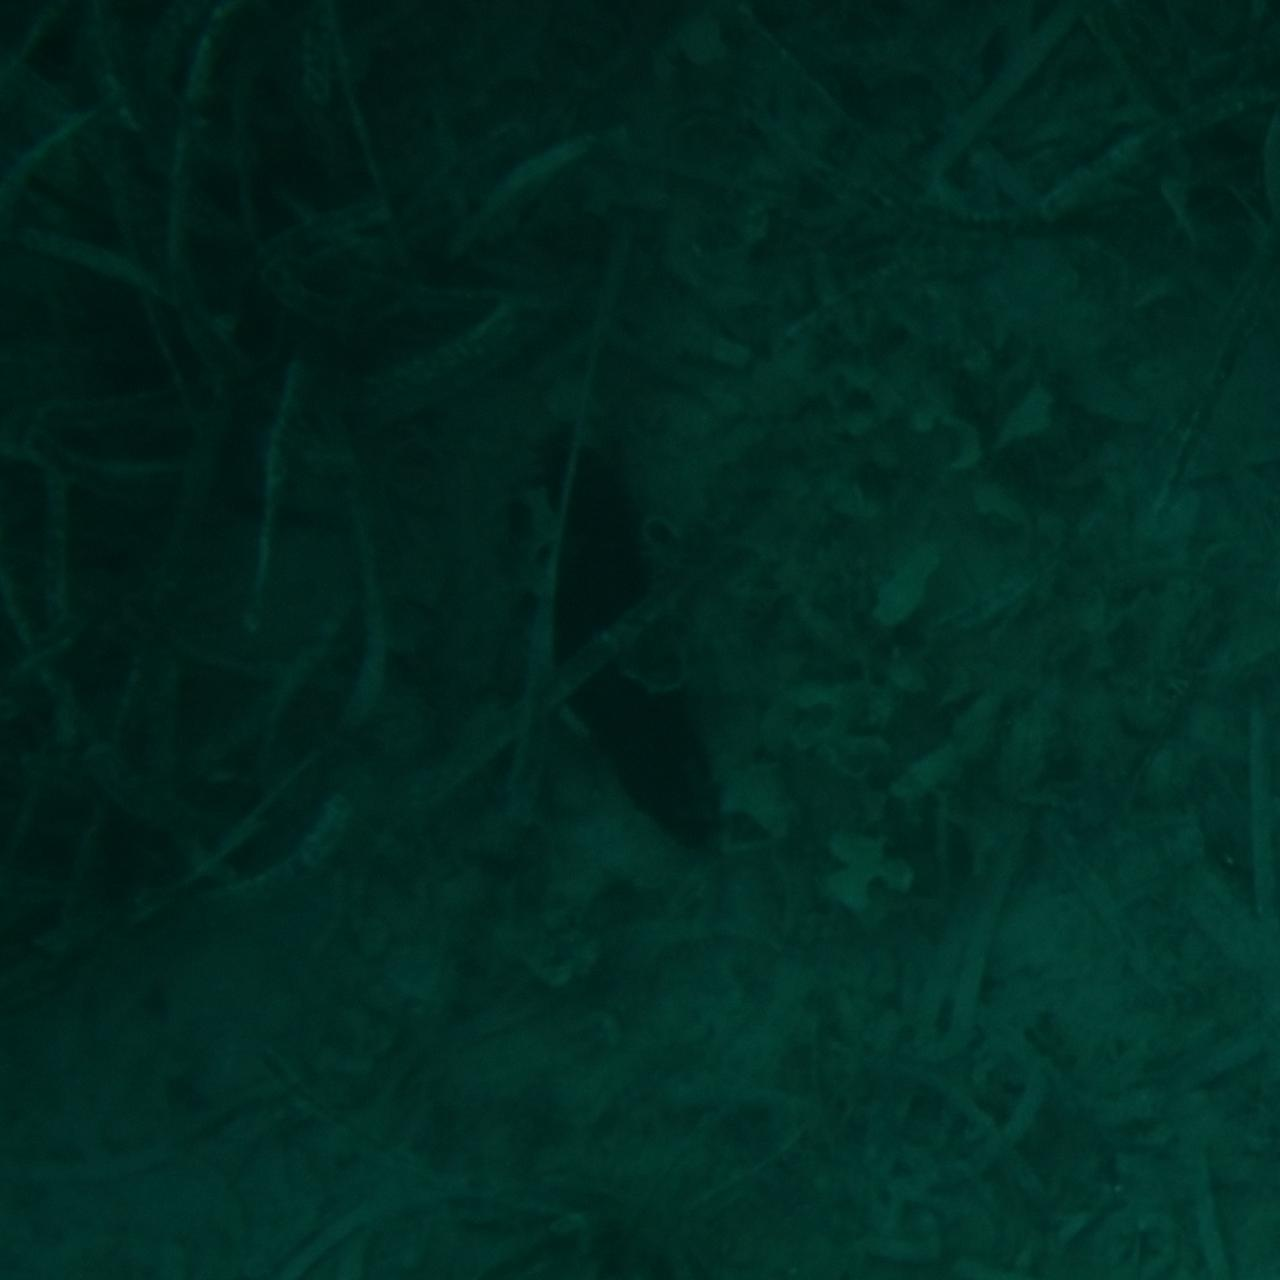Holothuria tubulosa: (541, 431, 739, 849)
